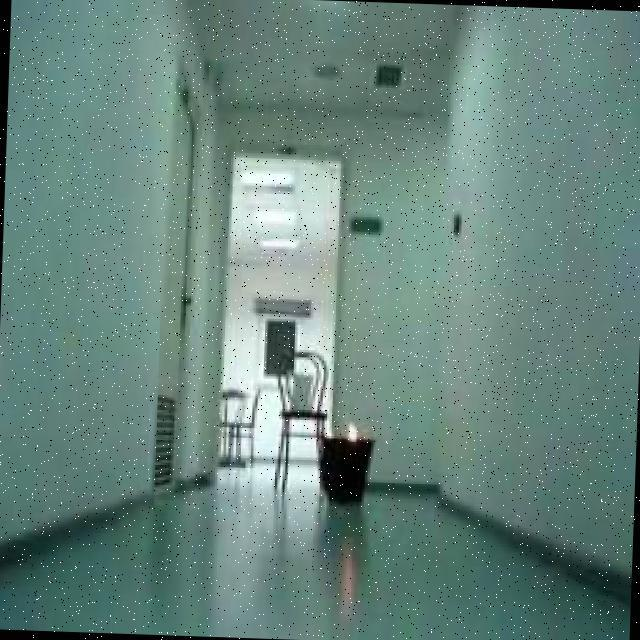Fire: (341, 424, 363, 444)
